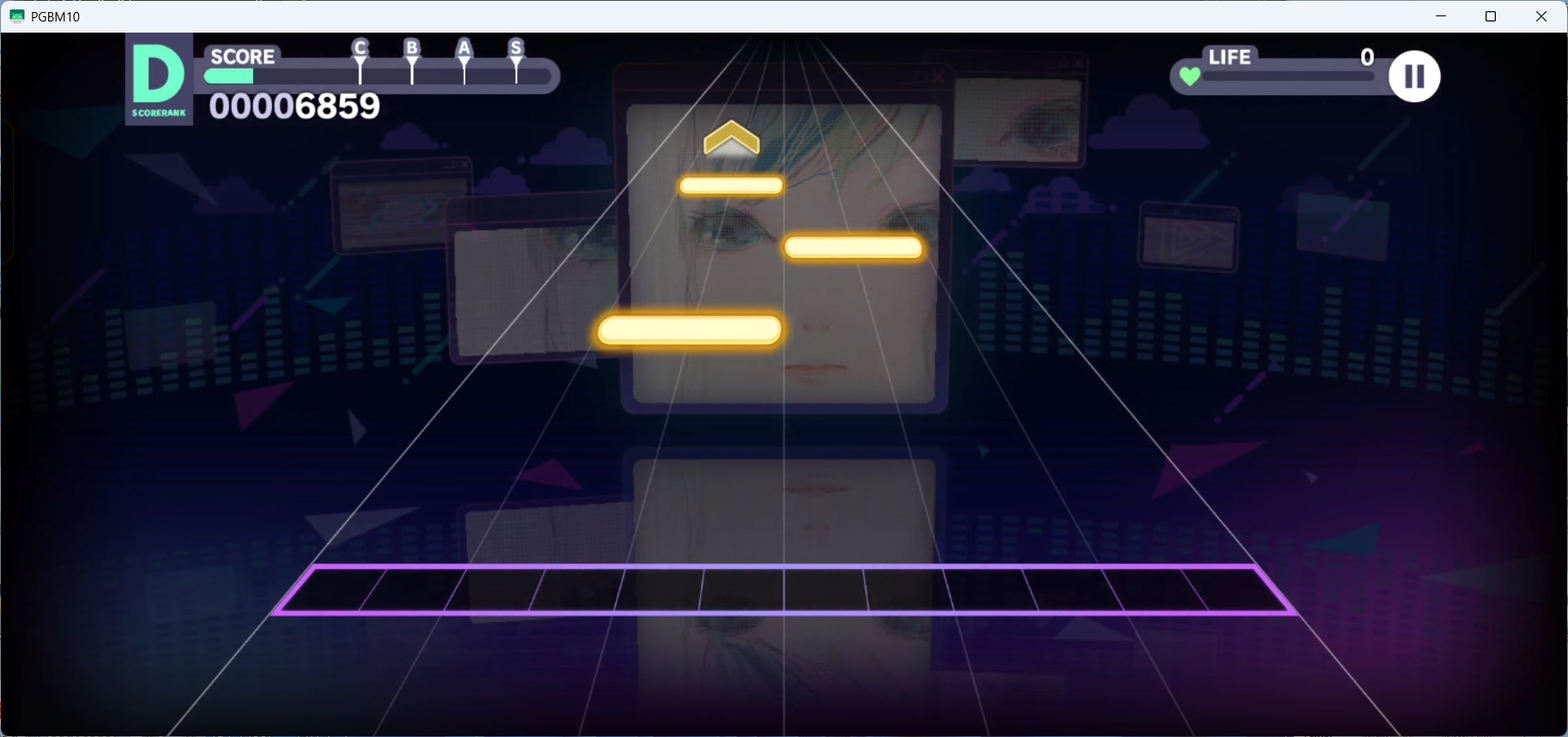flick: (703, 118, 761, 160)
tap: (597, 315, 781, 346), (784, 236, 922, 259), (680, 177, 782, 196)
